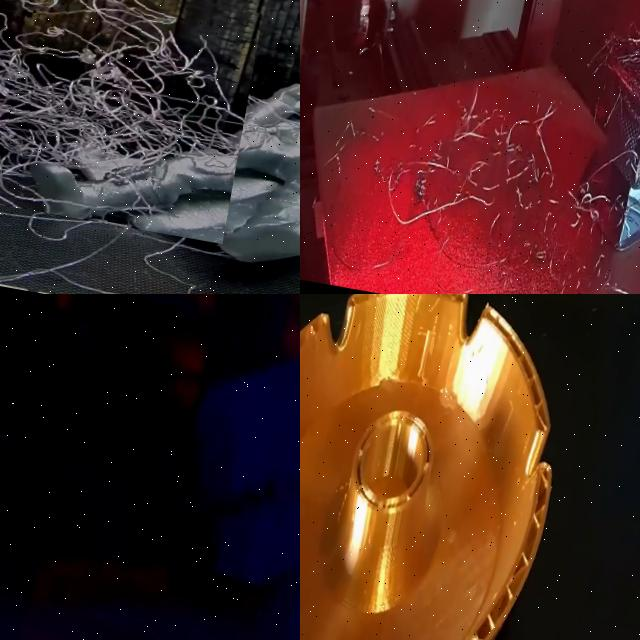spaghetti: (302, 52, 574, 294), (0, 0, 267, 244), (577, 26, 640, 251), (533, 192, 640, 294)
